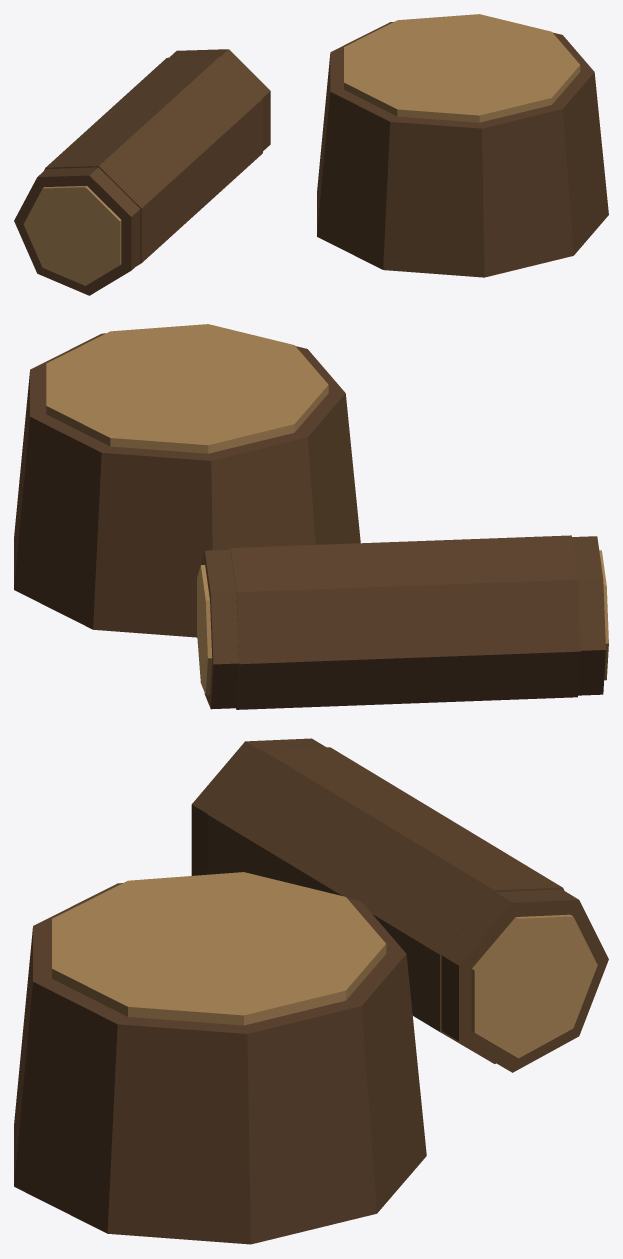
File: Scatter_StumpLog.fbx
3 renders of one model, top to bottom at view 1: azimuth 30°, elevation 25°; view 2: azimuth 150°, elevation 25°; view 3: azimuth 270°, elevation 25°, orthographic. The views are drawn at different scales.
Parts seen in each view (by area): view 1: StumpLog; view 2: StumpLog; view 3: StumpLog.
Boxes of the visible parts, x1,y1,x2,y2 form: StumpLog: [14, 14, 608, 295]; StumpLog: [14, 324, 608, 709]; StumpLog: [14, 738, 608, 1244].
Bounding box in the file's own units: 8.5 × 2.36 × 5.87.
